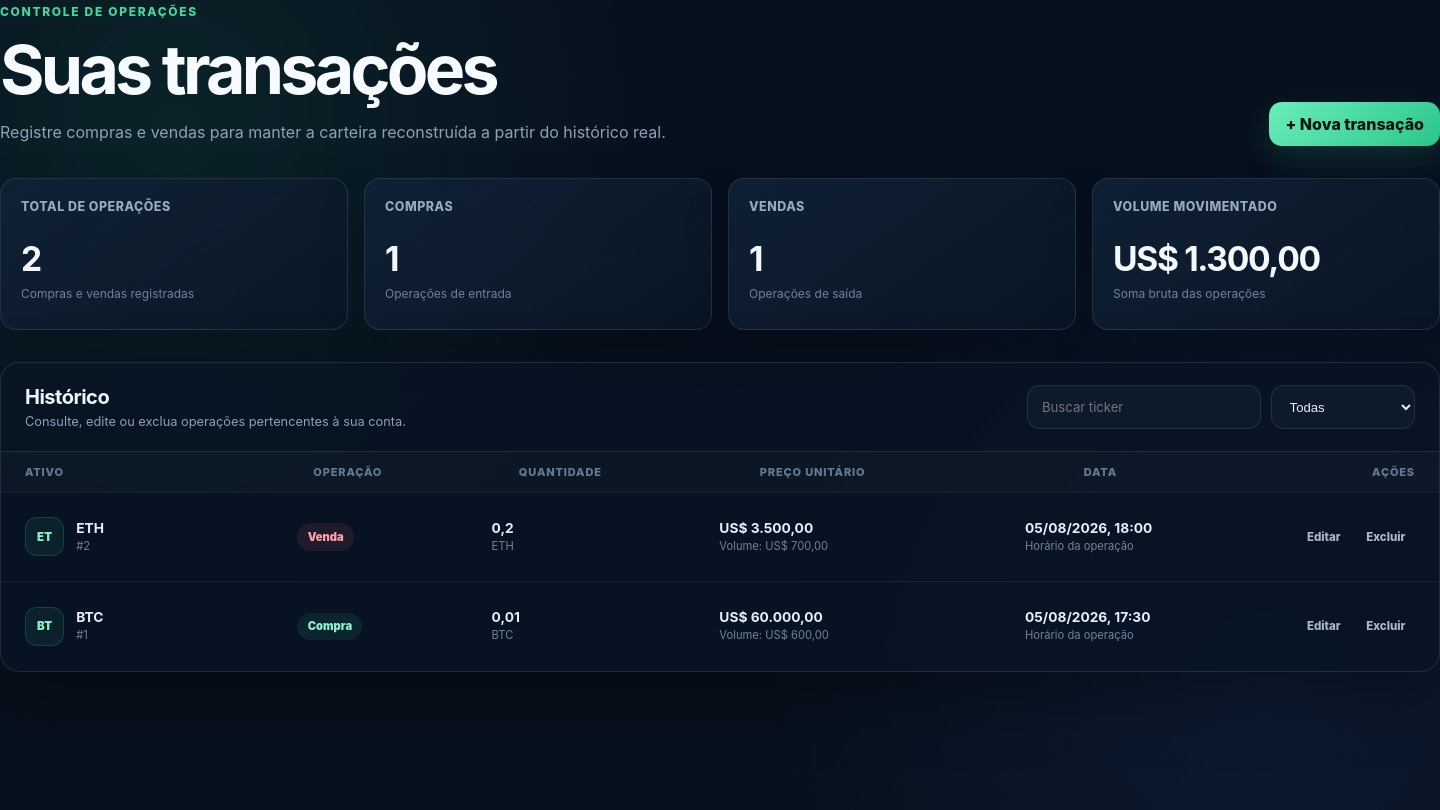
Test: TransactionsPage › mantém o diálogo aberto quando a API rejeita uma exclusão inconsistente
The image size is (1440, 810).
Click the button with aria-label "Excluir transação de BTC" at (1386, 626), box x1=1357 y1=612 x2=1415 y2=642
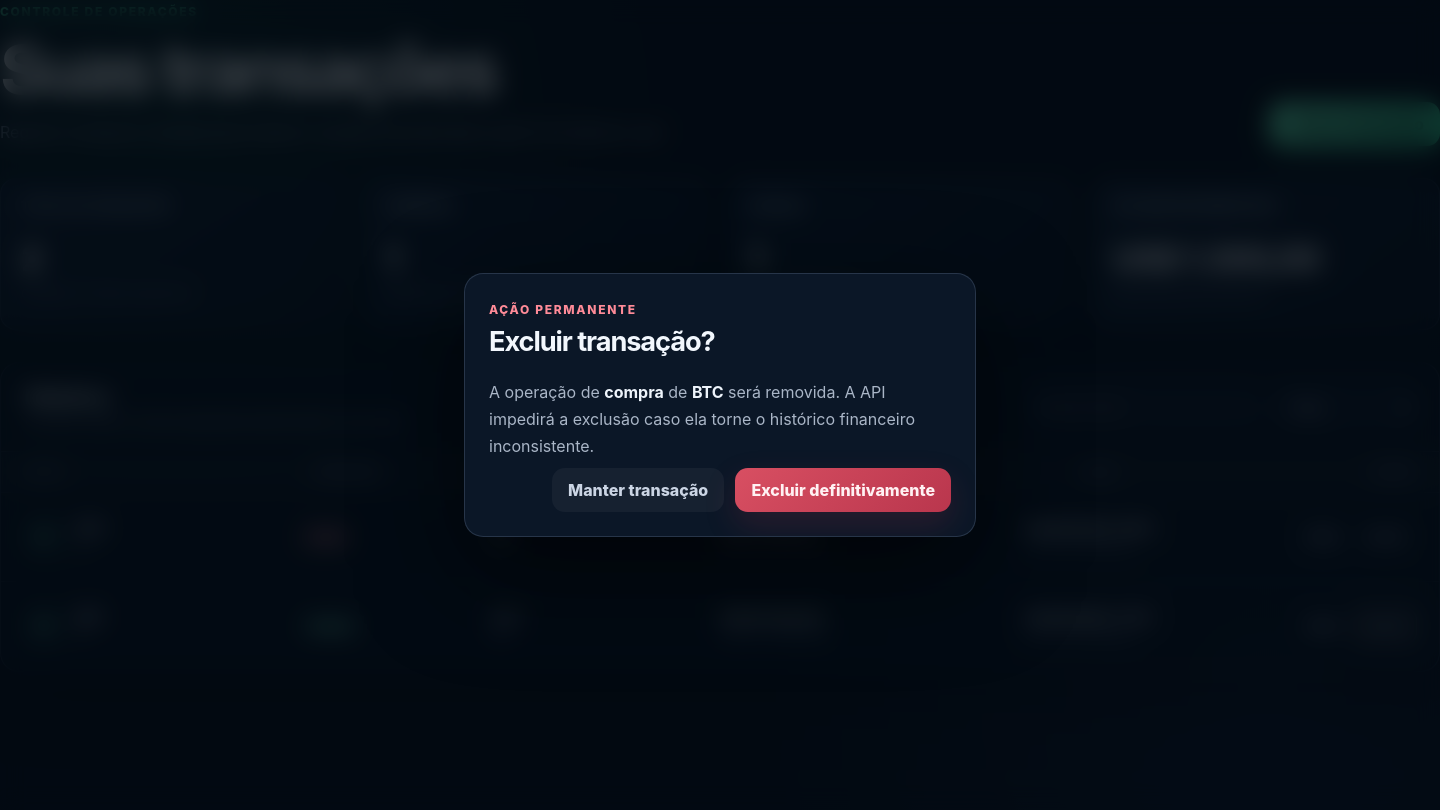
Click the button "Excluir definitivamente" at (843, 490), box x1=735 y1=468 x2=951 y2=512
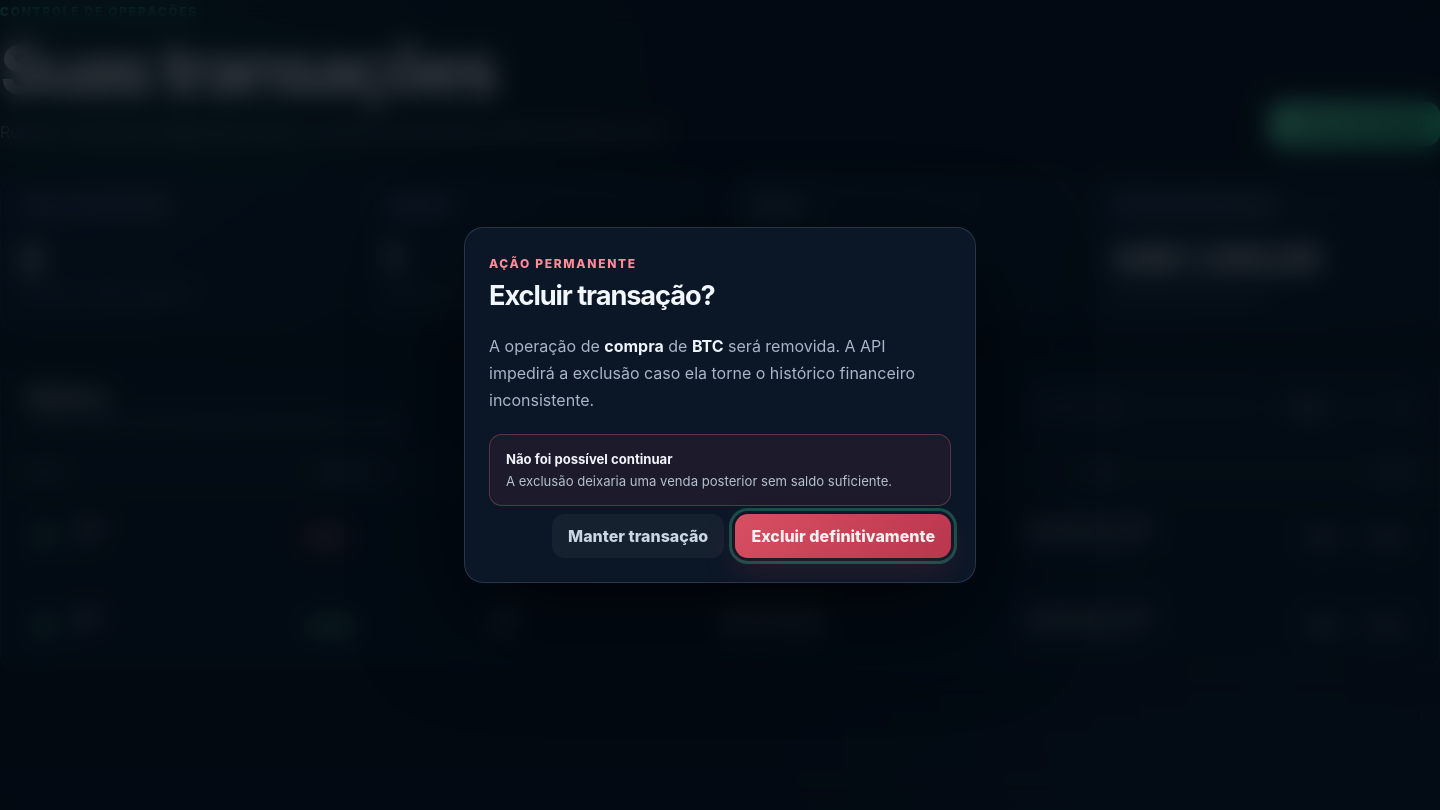
Now the dialog "Excluir transação?" is shown, box x1=464 y1=227 x2=976 y2=583
Now the text "A exclusão deixaria uma venda posterior sem saldo suficiente." is shown, box x1=506 y1=472 x2=934 y2=491
